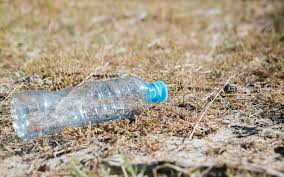Botella: (12, 75, 167, 139)
